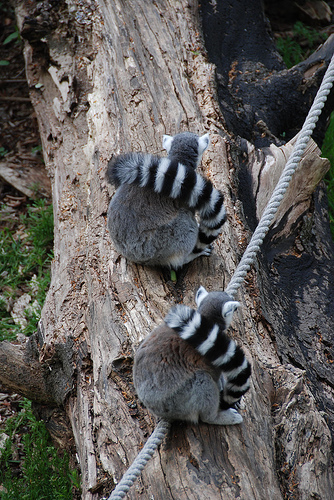cat: (103, 131, 228, 266), (132, 285, 250, 426)
